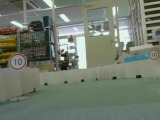speed_10: (9, 53, 27, 71), (148, 49, 160, 60)
